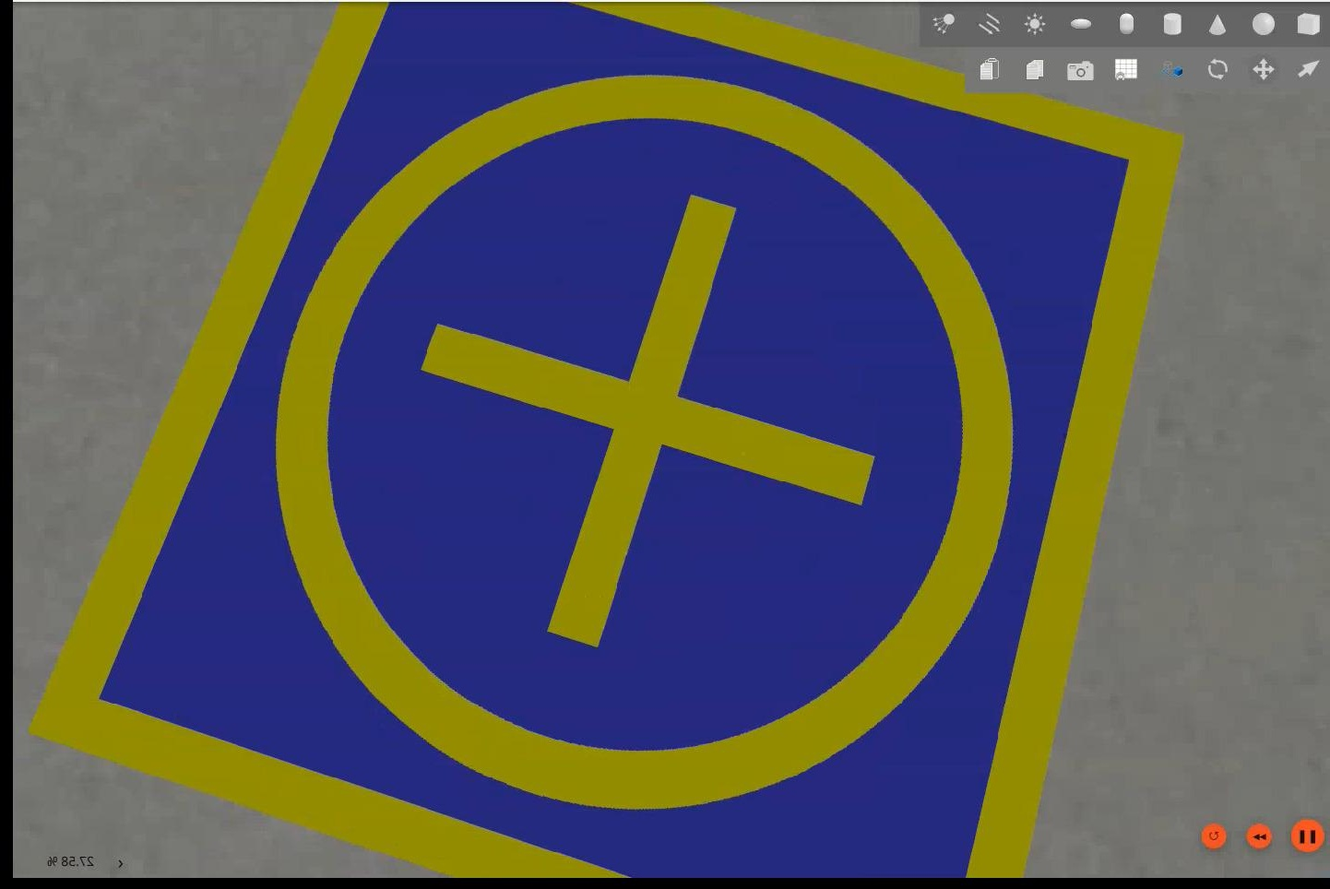small_base: (27, 1, 1184, 879)
